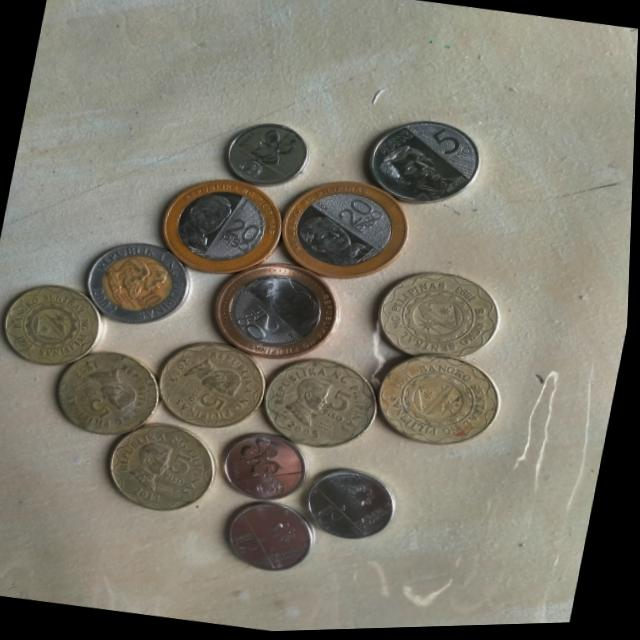10_Old_Front: (128, 280, 172, 318)
20_New_Front: (222, 298, 293, 351)
25Cent_New_Back: (231, 432, 298, 485), (245, 123, 305, 173)
5_New_Front: (412, 122, 487, 179)
5_Old_Back: (0, 278, 110, 374)
5_Old_Front: (191, 381, 240, 420)
